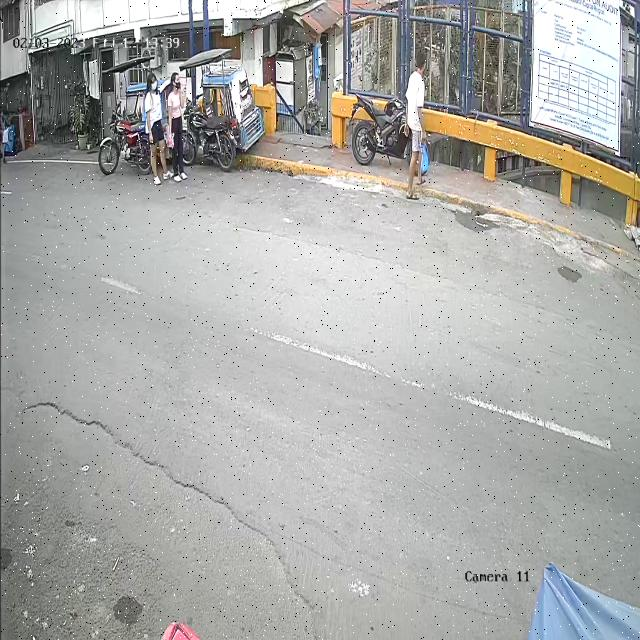garbage_dumping: (420, 134, 431, 178)
